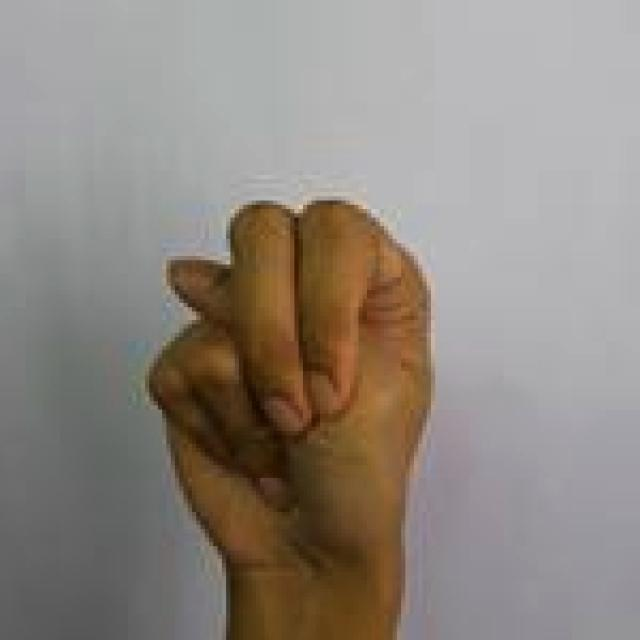N: (128, 196, 439, 640)
